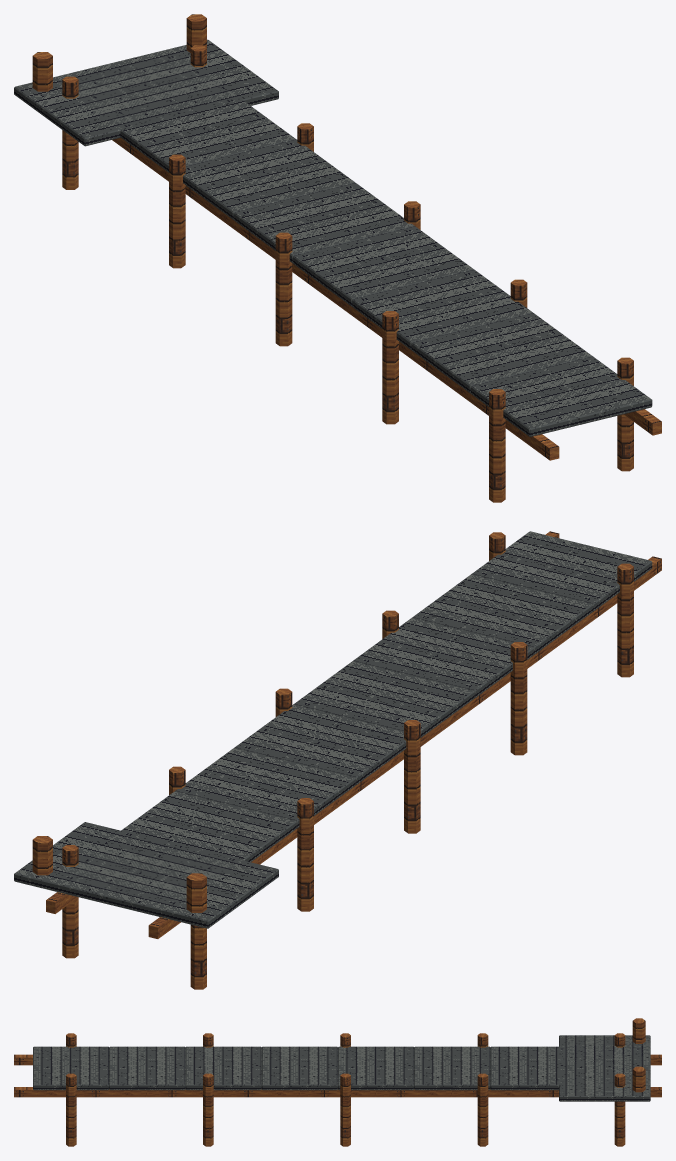
The model's file is furia_pier.glb.
3 views of the same model, one above another, from view 1: azimuth 30°, elevation 25°; view 2: azimuth 150°, elevation 25°; view 3: azimuth 270°, elevation 25° (orthographic). The views are drawn at different scales.
Visible parts, largest first — view 1: Pier; view 2: Pier; view 3: Pier.
Boxes of the visible parts, x1=… form: Pier: x1=14, y1=14, x2=661, y2=502; Pier: x1=14, y1=531, x2=661, y2=989; Pier: x1=14, y1=1018, x2=661, y2=1146.
Bounding box in the file's own units: 3.8 × 2.3 × 17.
Materials: 2 (2 with a texture image).
